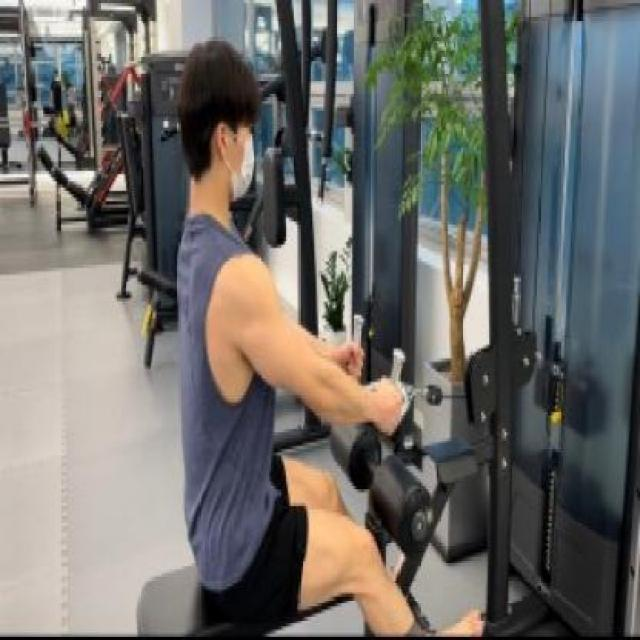Seated Cable Rows: (132, 0, 638, 640)
